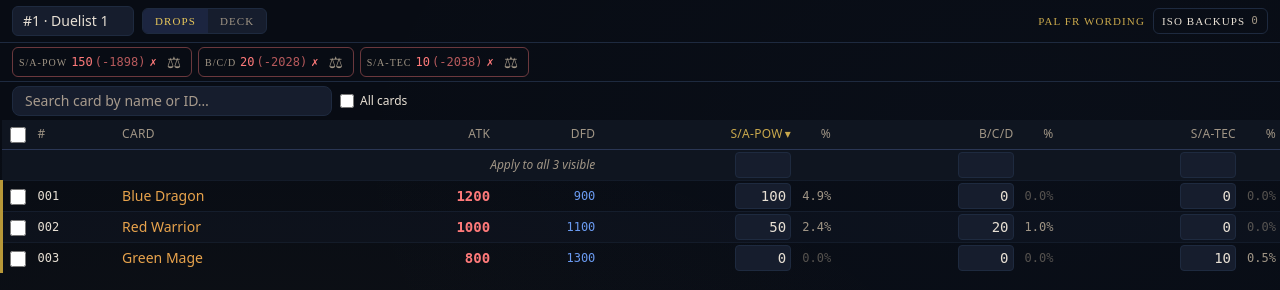
Test: DropPoolEditor › switches from Drops to Deck without carrying an invalid drop sort key
Click the tab with aria-label "Cards the AI builds its deck from.".
click(237, 21)  # box [208,9,266,33]
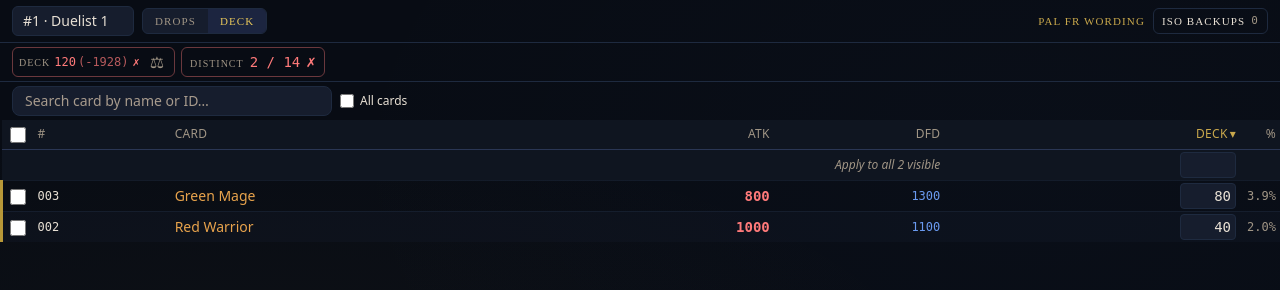
Expected: the text "Distinct" is shown, [190,56,244,71]
